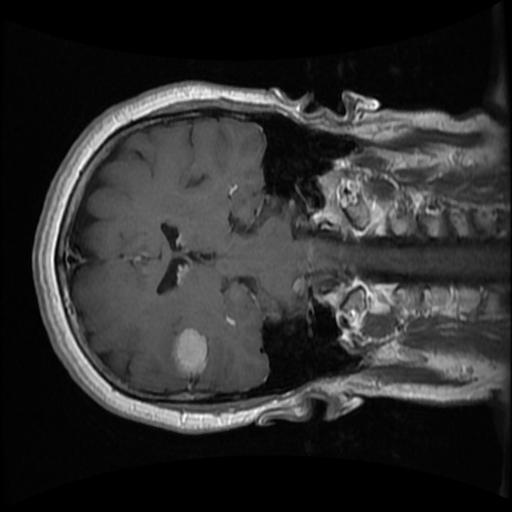meningioma: (173, 327, 208, 375)
